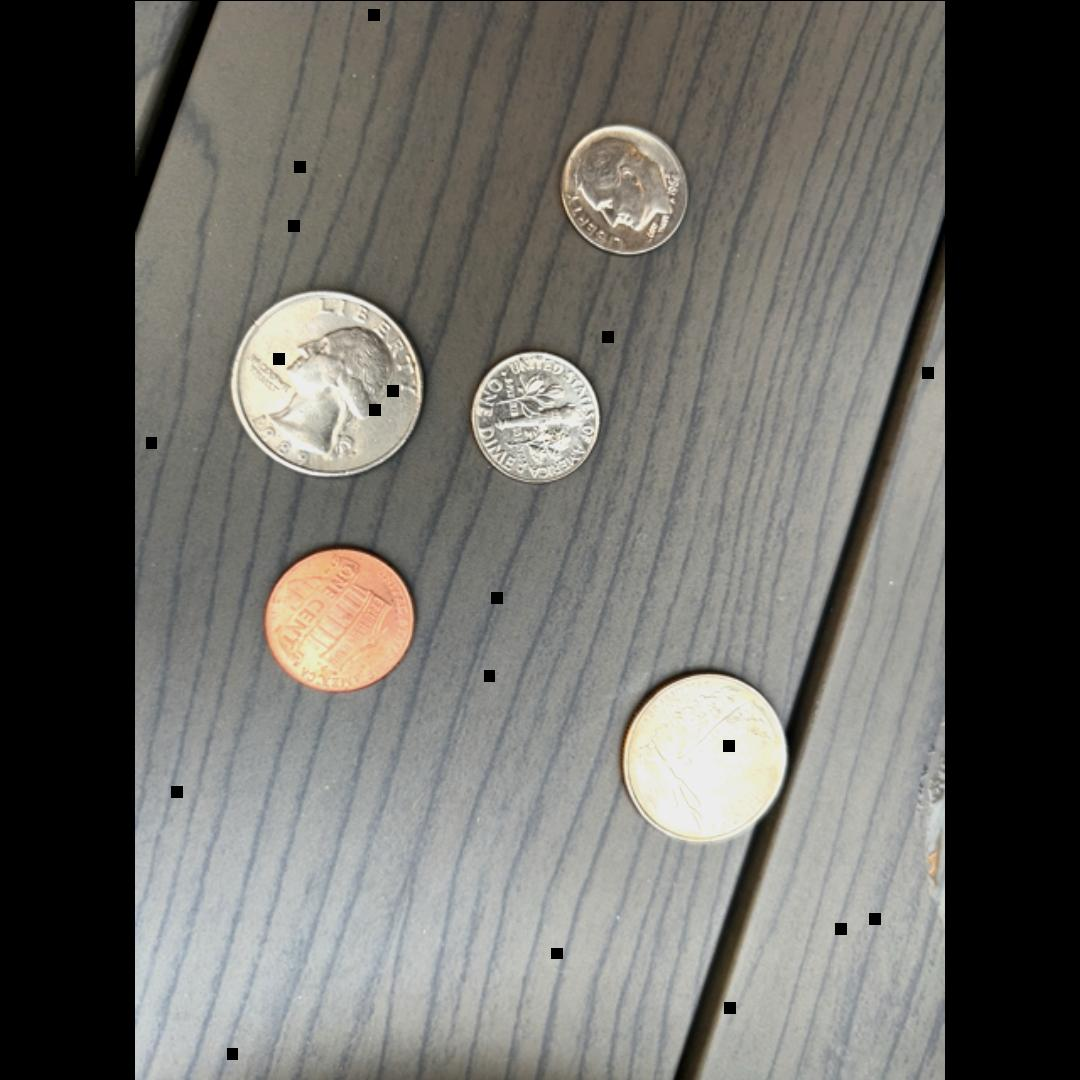Dime: (557, 120, 691, 254), (470, 348, 600, 481)
Penny: (262, 545, 416, 693)
Quarter: (228, 286, 426, 476), (620, 667, 790, 843)
